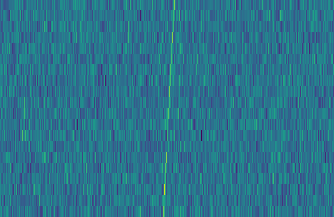signal: (159, 0, 178, 217)
